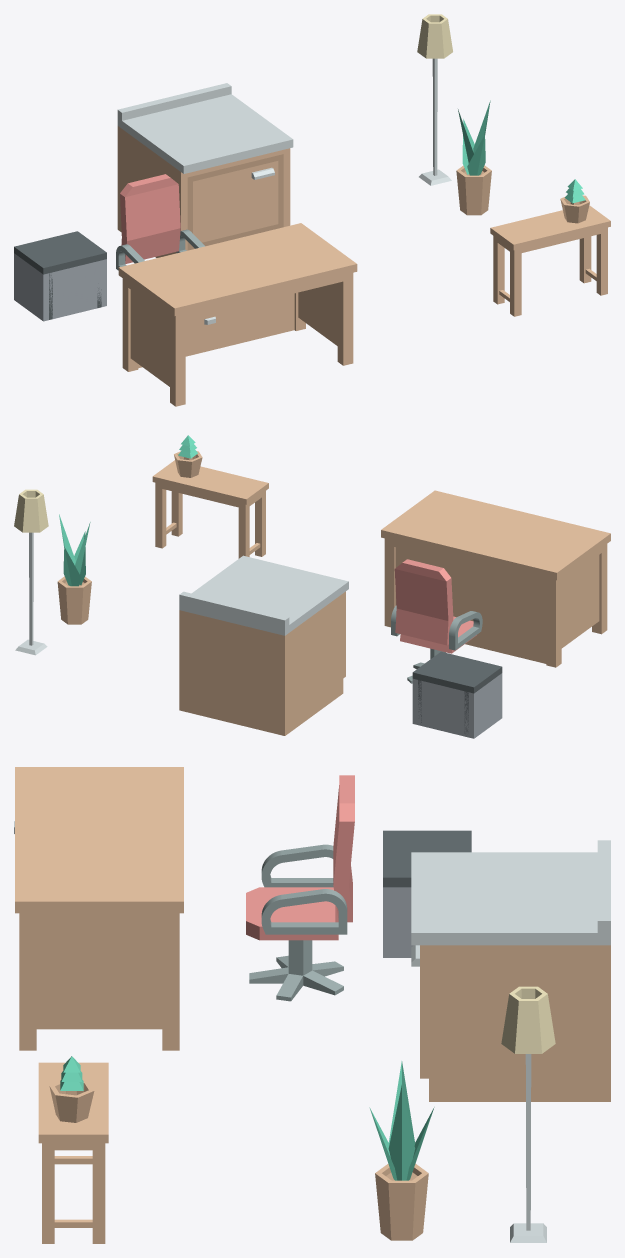
The picture shows the model from 3 angles, top to bottom: view 1: azimuth 30°, elevation 25°; view 2: azimuth 150°, elevation 25°; view 3: azimuth 270°, elevation 25°; orthographic projection. The views are drawn at different scales.
Parts seen in each view (by area): view 1: desk_blue__desk(Clone), cabinet_blue__kitchenCabinet(Clone), cabinet_blue__door, sidetable_brown__sideTable(Clone), deskchair_black__chair, crate_red__crate_red shell, crate_red__crate_red lid, lamp_white__lampRoundFloor(Clone), plant_pink__pottedPlant(Clone), plant_pink__plant, flowerpot_green__plantSmall1(Clone), desk_blue__drawer; view 2: desk_blue__desk(Clone), cabinet_blue__kitchenCabinet(Clone), deskchair_black__chair, sidetable_brown__sideTable(Clone), crate_red__crate_red shell, crate_red__crate_red lid, lamp_white__lampRoundFloor(Clone), plant_pink__pottedPlant(Clone), plant_pink__plant, flowerpot_green__plantSmall1(Clone); view 3: cabinet_blue__kitchenCabinet(Clone), desk_blue__desk(Clone), deskchair_black__chair, sidetable_brown__sideTable(Clone), lamp_white__lampRoundFloor(Clone), plant_pink__pottedPlant(Clone), crate_red__crate_red lid, deskchair_black__chairDesk(Clone), plant_pink__plant, crate_red__crate_red shell, flowerpot_green__plantSmall1(Clone).
Part boxes in pixels (left/top/right/bottom): desk_blue__desk(Clone): left=118, top=223, right=357, bottom=406; cabinet_blue__kitchenCabinet(Clone): left=117, top=83, right=293, bottom=257; cabinet_blue__door: left=187, top=154, right=283, bottom=250; sidetable_brown__sideTable(Clone): left=490, top=205, right=610, bottom=316; deskchair_black__chair: left=116, top=174, right=204, bottom=270; crate_red__crate_red shell: left=14, top=253, right=106, bottom=321; crate_red__crate_red lid: left=14, top=231, right=106, bottom=274; lamp_white__lampRoundFloor(Clone): left=417, top=14, right=452, bottom=185; plant_pink__pottedPlant(Clone): left=456, top=165, right=491, bottom=215; plant_pink__plant: left=458, top=100, right=490, bottom=175; flowerpot_green__plantSmall1(Clone): left=560, top=179, right=589, bottom=223; desk_blue__drawer: left=185, top=308, right=234, bottom=332; desk_blue__desk(Clone): left=381, top=490, right=610, bottom=667; cabinet_blue__kitchenCabinet(Clone): left=179, top=555, right=348, bottom=735; deskchair_black__chair: left=391, top=559, right=482, bottom=653; sidetable_brown__sideTable(Clone): left=152, top=460, right=268, bottom=558; crate_red__crate_red shell: left=412, top=673, right=502, bottom=738; crate_red__crate_red lid: left=412, top=651, right=502, bottom=693; lamp_white__lampRoundFloor(Clone): left=14, top=489, right=48, bottom=655; plant_pink__pottedPlant(Clone): left=57, top=576, right=91, bottom=624; plant_pink__plant: left=59, top=514, right=90, bottom=586; flowerpot_green__plantSmall1(Clone): left=174, top=435, right=202, bottom=477; cabinet_blue__kitchenCabinet(Clone): left=411, top=840, right=610, bottom=1101; desk_blue__desk(Clone): left=15, top=767, right=183, bottom=1050; deskchair_black__chair: left=246, top=775, right=354, bottom=940; sidetable_brown__sideTable(Clone): left=38, top=1062, right=108, bottom=1243; lamp_white__lampRoundFloor(Clone): left=501, top=986, right=555, bottom=1242; plant_pink__pottedPlant(Clone): left=375, top=1163, right=428, bottom=1240; crate_red__crate_red lid: left=383, top=830, right=471, bottom=887; deskchair_black__chairDesk(Clone): left=249, top=940, right=343, bottom=1001; plant_pink__plant: left=369, top=1061, right=434, bottom=1180; crate_red__crate_red shell: left=383, top=887, right=413, bottom=957; flowerpot_green__plantSmall1(Clone): left=49, top=1056, right=94, bottom=1122.
Bounding box in the file's own units: 3.56 × 1.2 × 2.69.
